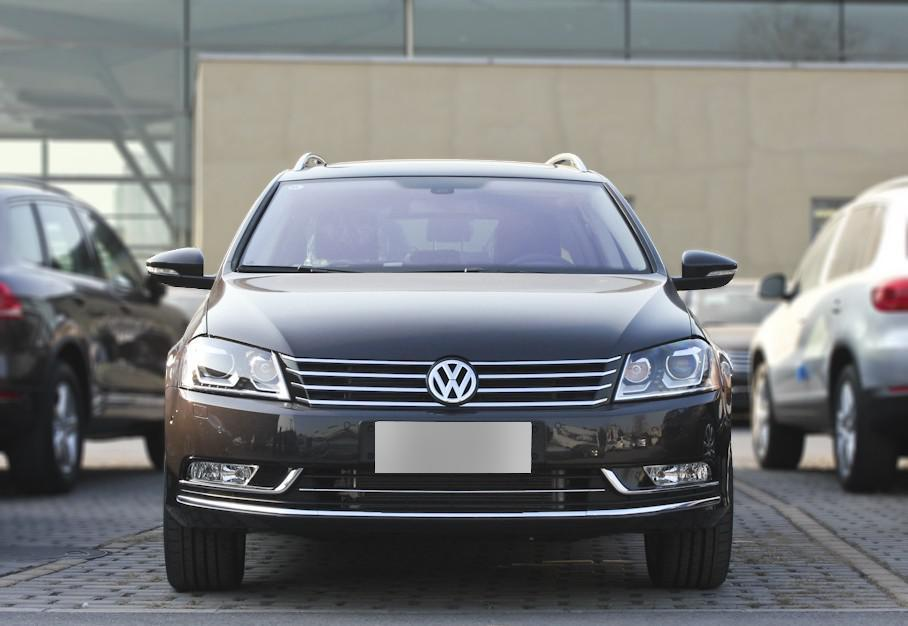Wagon: (147, 152, 738, 590)
